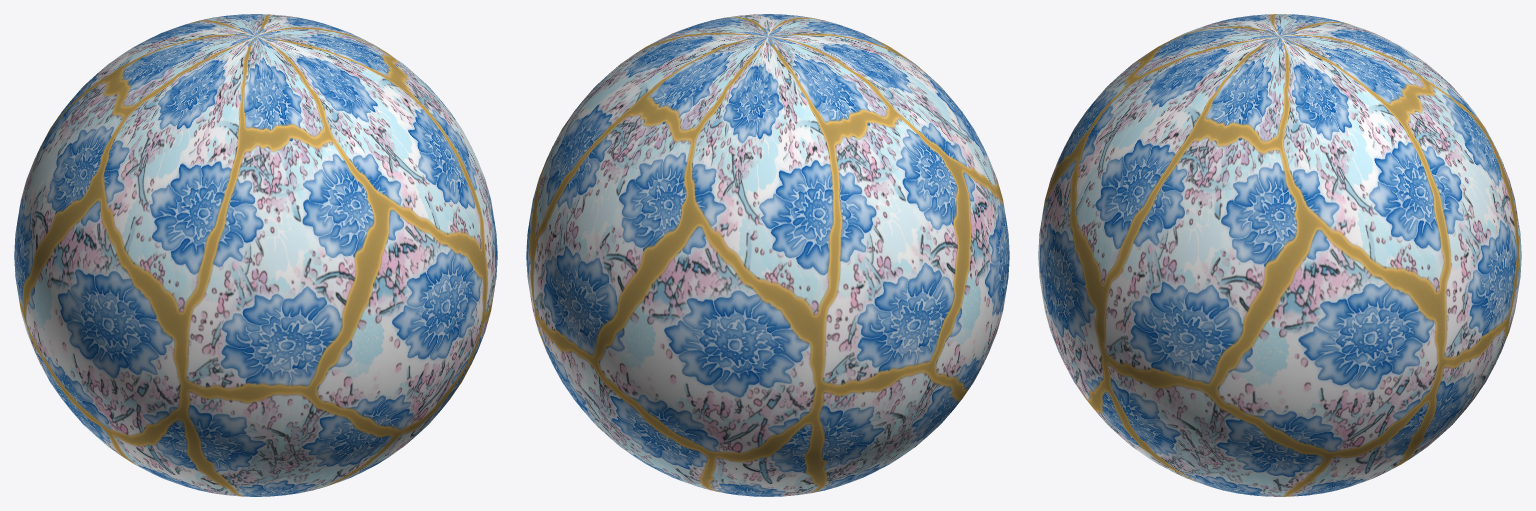
File: kintsugi-transformed.glb
The picture shows the model from 3 angles, left to right: view 1: azimuth 30°, elevation 25°; view 2: azimuth 150°, elevation 25°; view 3: azimuth 270°, elevation 25°; orthographic projection.
Parts seen in each view (by area): view 1: Object_4; view 2: Object_4; view 3: Object_4.
Boxes of the visible parts, x1,y1,x2,y2 form: Object_4: [14, 14, 497, 496]; Object_4: [526, 14, 1009, 496]; Object_4: [1038, 14, 1521, 496].
Bounding box in the file's own units: 2 × 2 × 2.
Materials: 1 (1 with a texture image).
